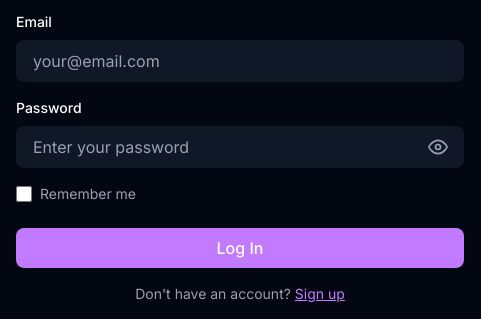
Test: AuthForm › Password Visibility Toggle › updates toggle button aria-label based on state
The image size is (481, 319).
Click the button named "show password" at (438,147), box [424,133,452,161]
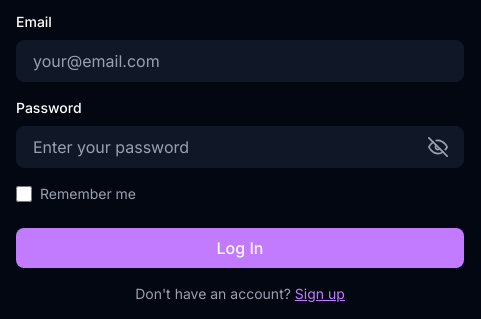
Result: the button named "hide password" is shown at [424,133,452,161]
